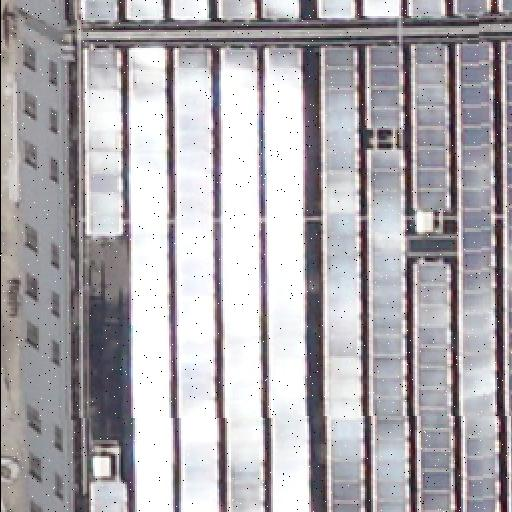solar-panel: (128, 48, 264, 512), (317, 44, 363, 512), (454, 41, 498, 511), (264, 48, 308, 512), (367, 148, 409, 512), (412, 262, 452, 512), (80, 1, 512, 23), (80, 48, 124, 236), (408, 43, 448, 213), (500, 40, 512, 512), (365, 45, 403, 131), (89, 480, 127, 512)
